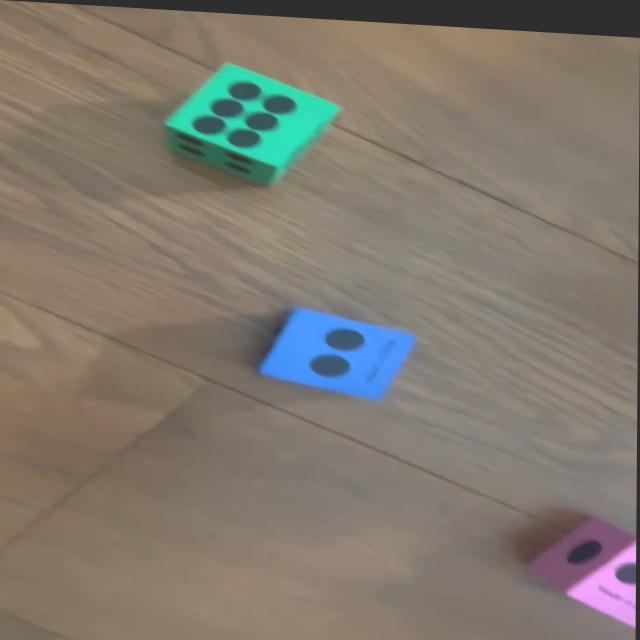cube: (169, 58, 339, 184), (259, 302, 420, 399)
